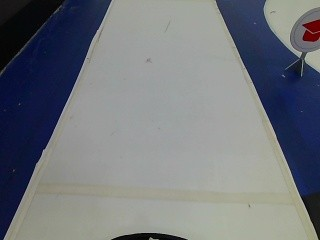school: (290, 9, 318, 53)
